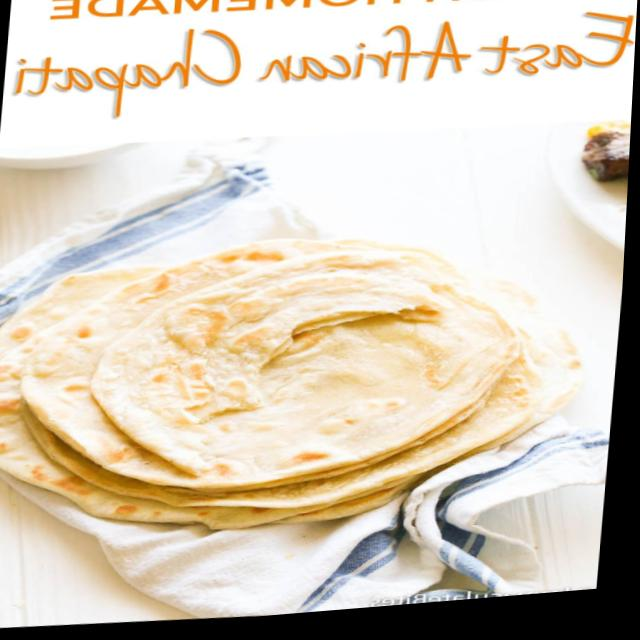CHAPATHI: (0, 228, 560, 529)
